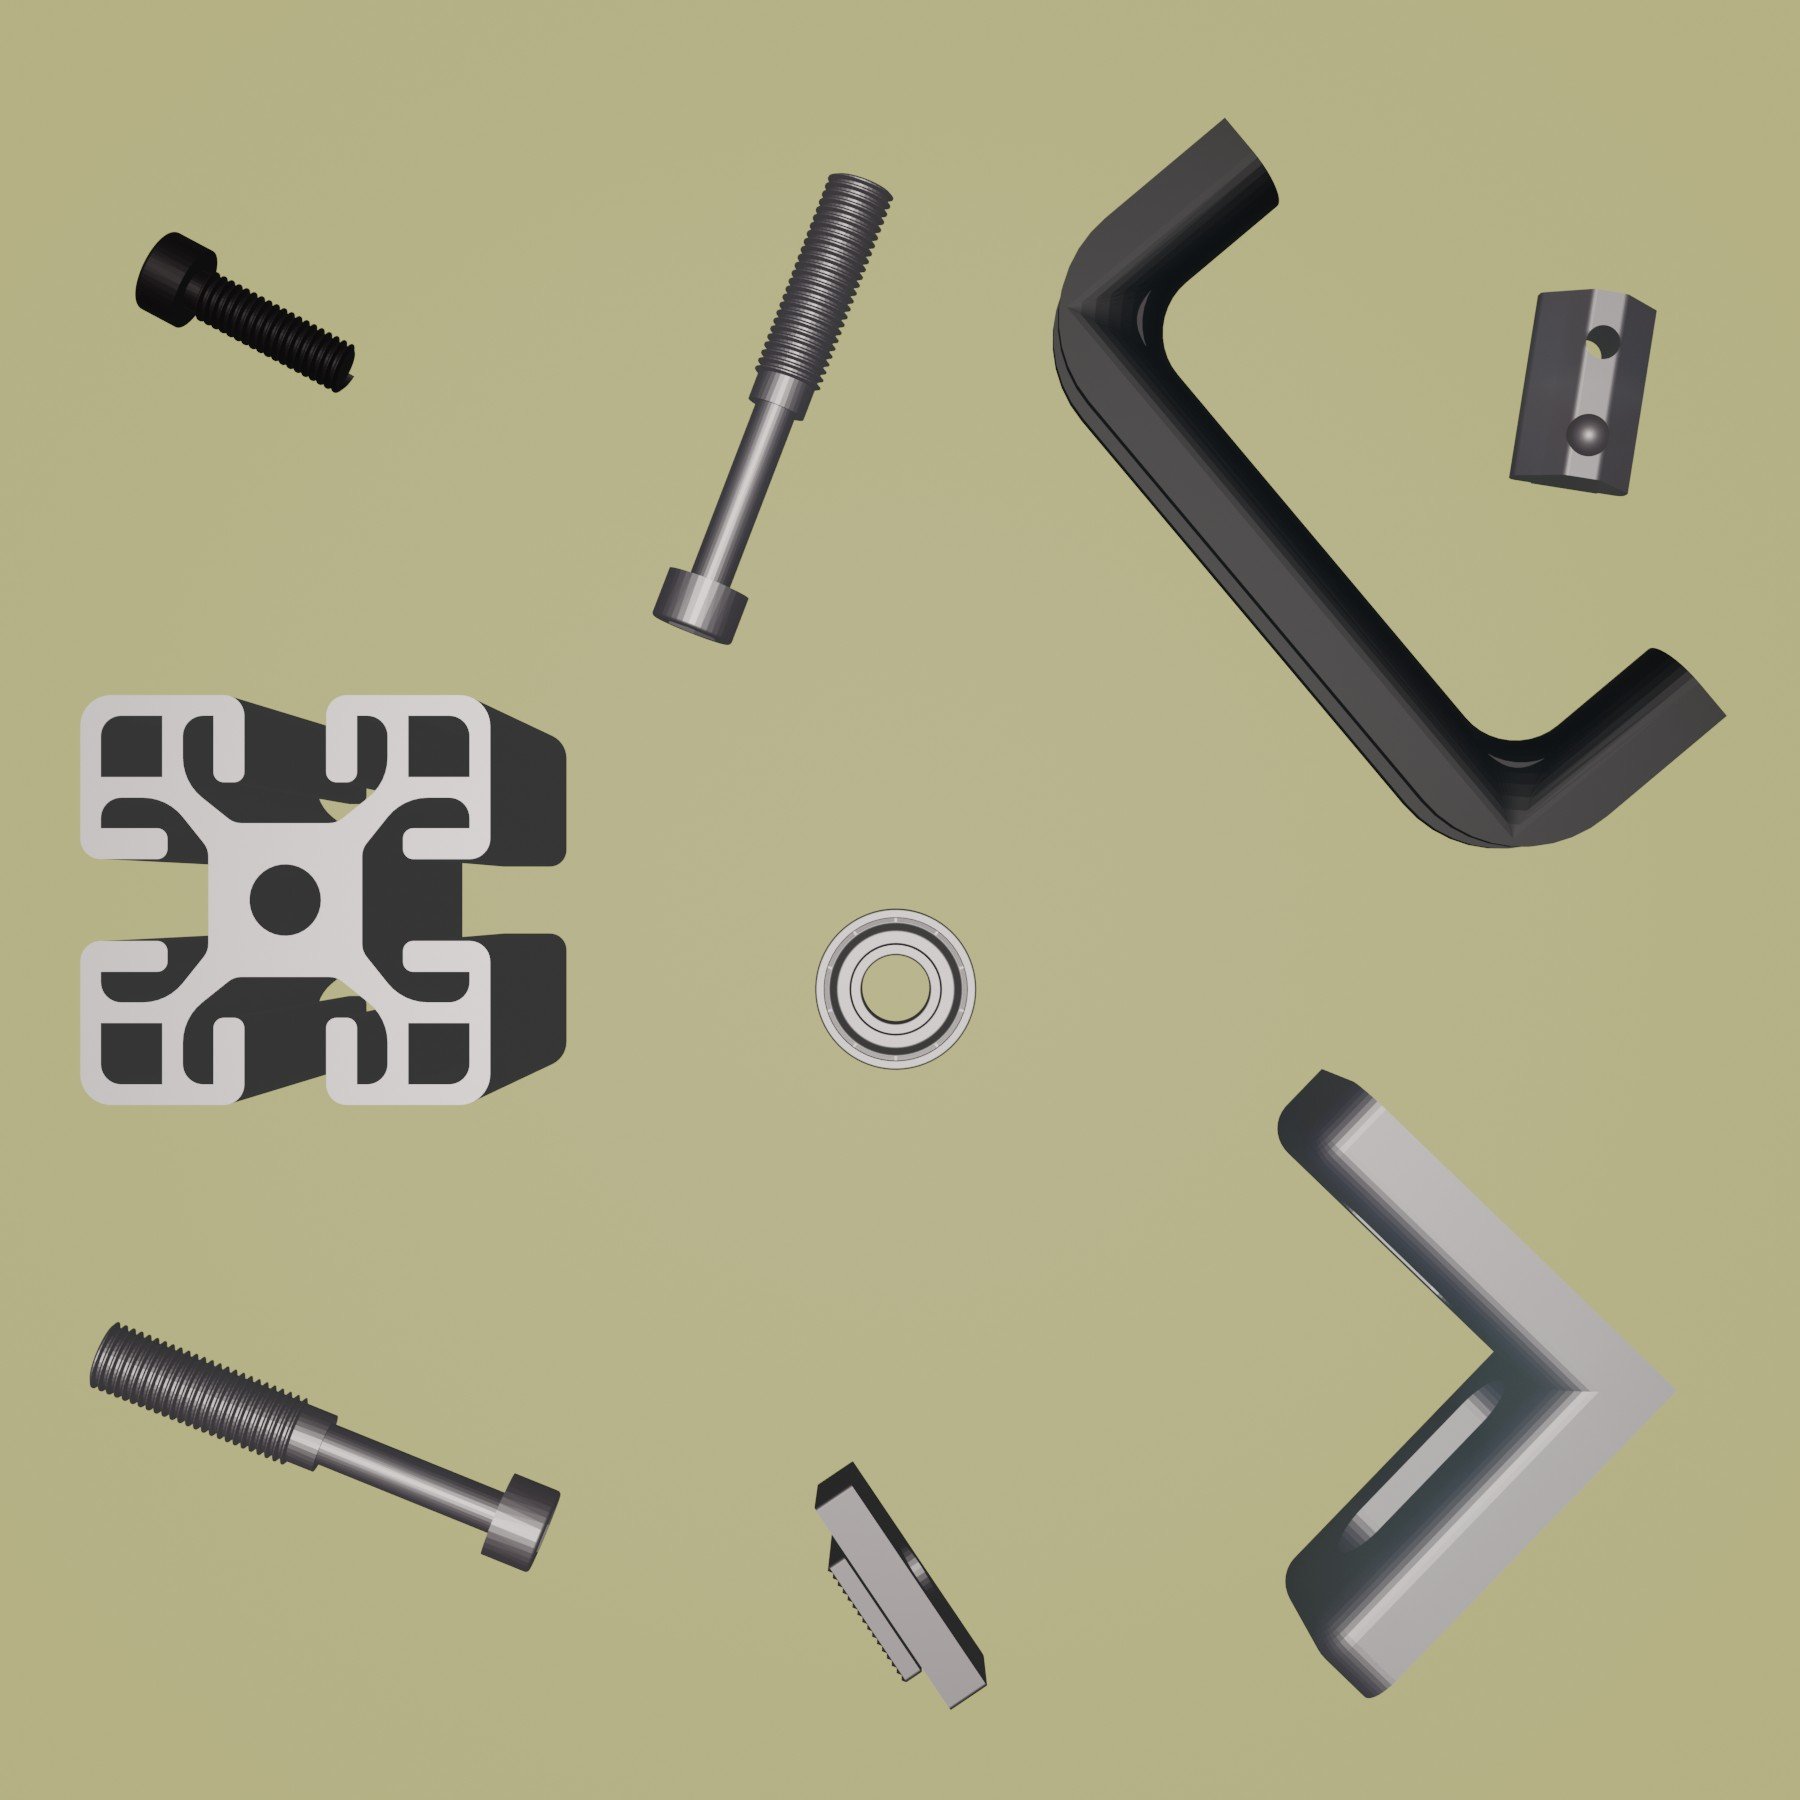Aluminium Extension: (74, 687, 570, 1113)
Ball Bearing: (811, 907, 977, 1071)
Multiwinkel: (1276, 1063, 1681, 1699)
Pull Handle: (1048, 114, 1727, 851)
Shoulder Socket Head Cap Screw: (86, 1319, 564, 1573), (648, 170, 898, 648)
Socket Head Cap Screw: (130, 226, 358, 392)
T Nut Square: (813, 1457, 992, 1714)
T Spring Nut: (1503, 285, 1658, 499)
